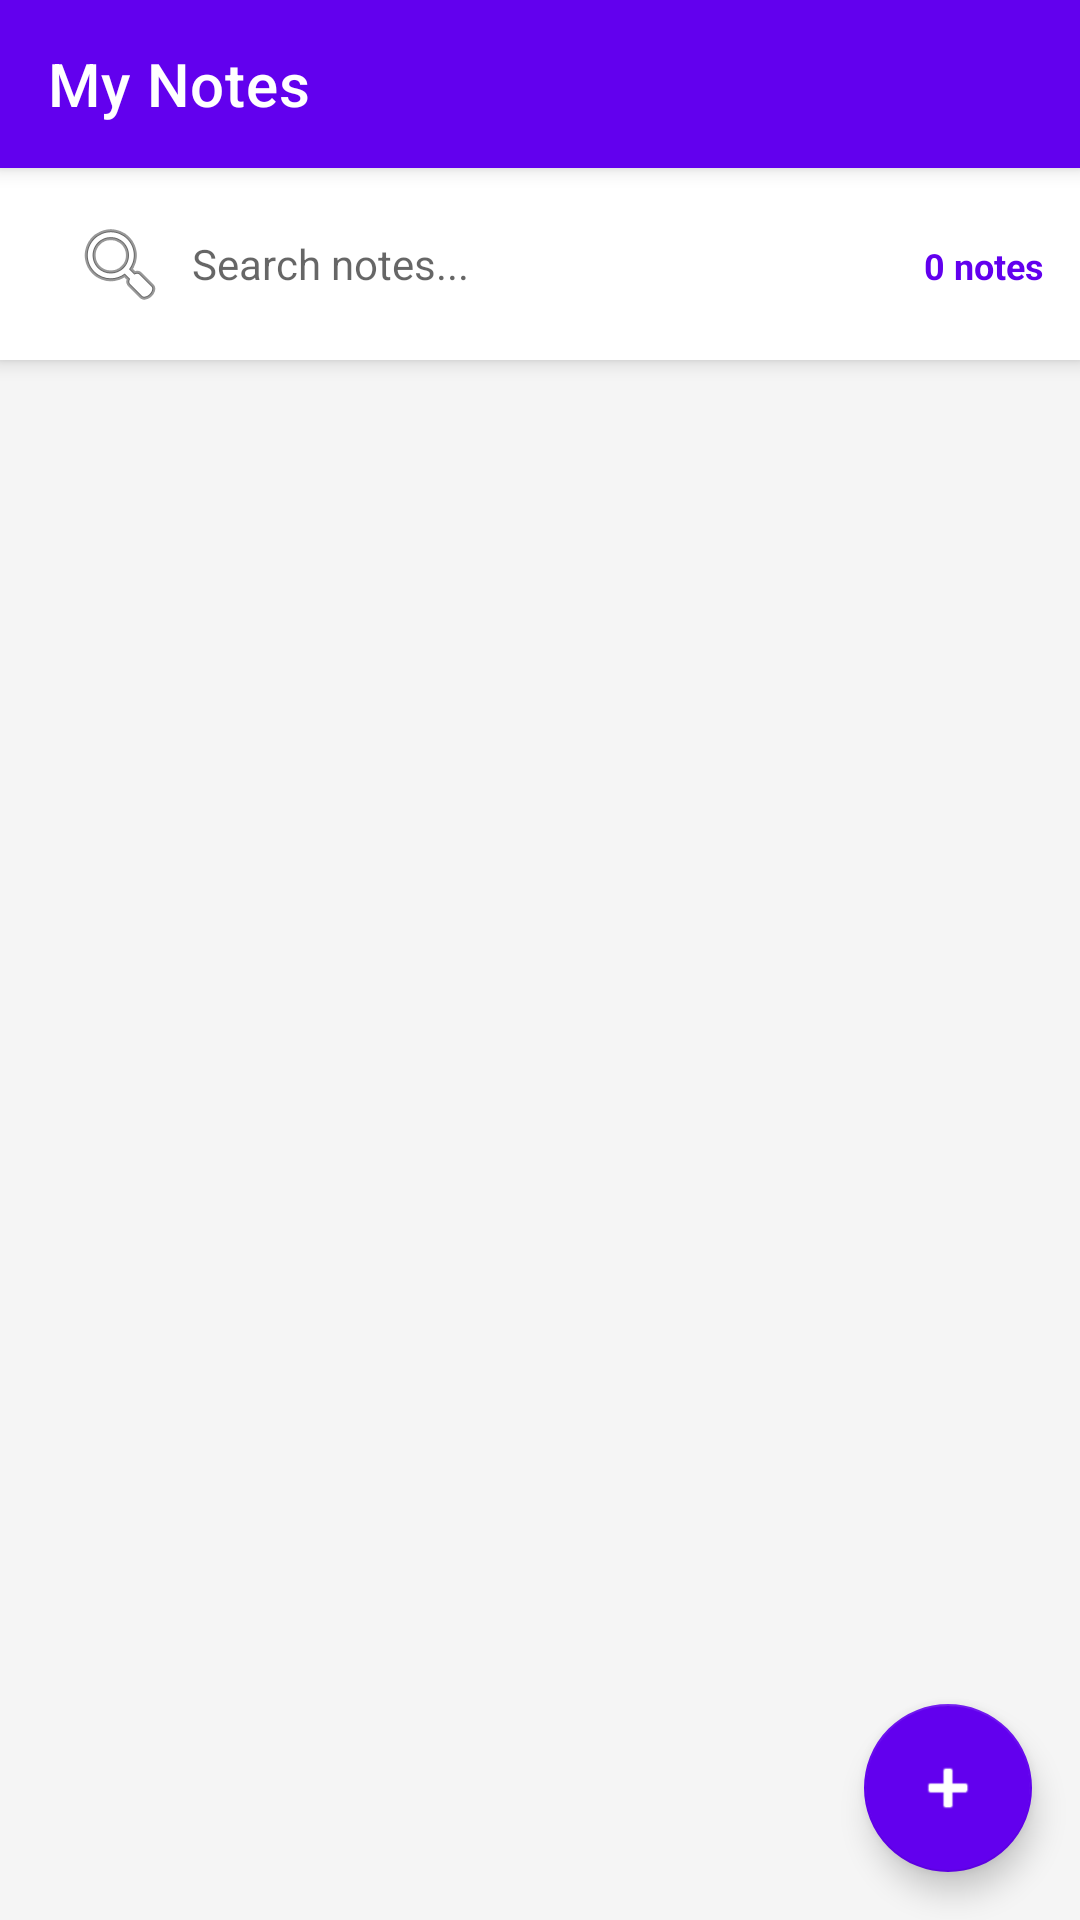

Icon bounding boxes for this 1080 × 1920 phone screenshot, format bbox(x1, y1, x2, y2):
Add Note: bbox(864, 1704, 1032, 1872)
